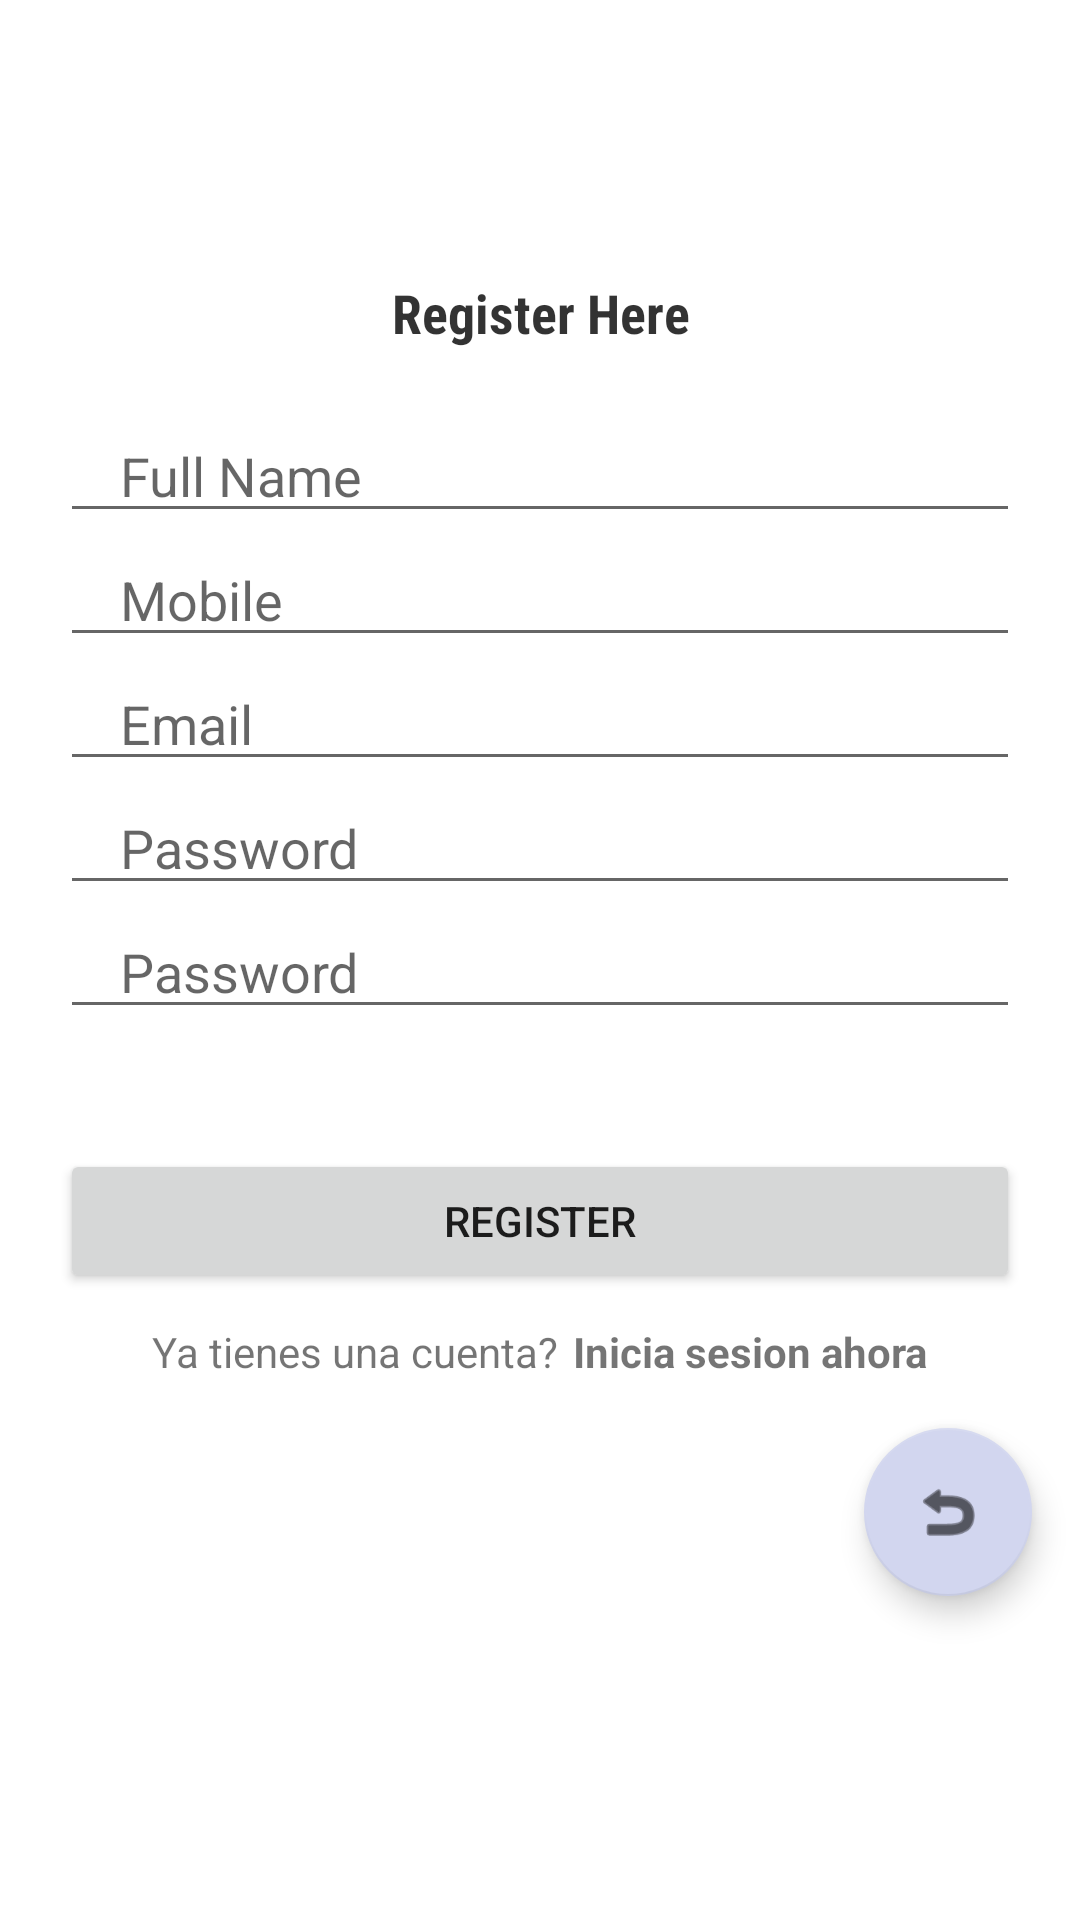

Named icons in this screenshot (1080×1920) and their centers, point (x, y):
revert: point (948, 1512)
